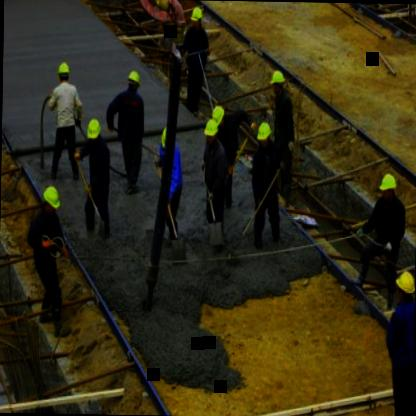helmet: (392, 268, 415, 304), (40, 182, 60, 219), (379, 167, 398, 202), (83, 116, 103, 146), (202, 119, 219, 146), (125, 68, 141, 96), (270, 69, 286, 97), (256, 122, 272, 148), (212, 102, 227, 128), (188, 3, 202, 29), (57, 57, 70, 84)
